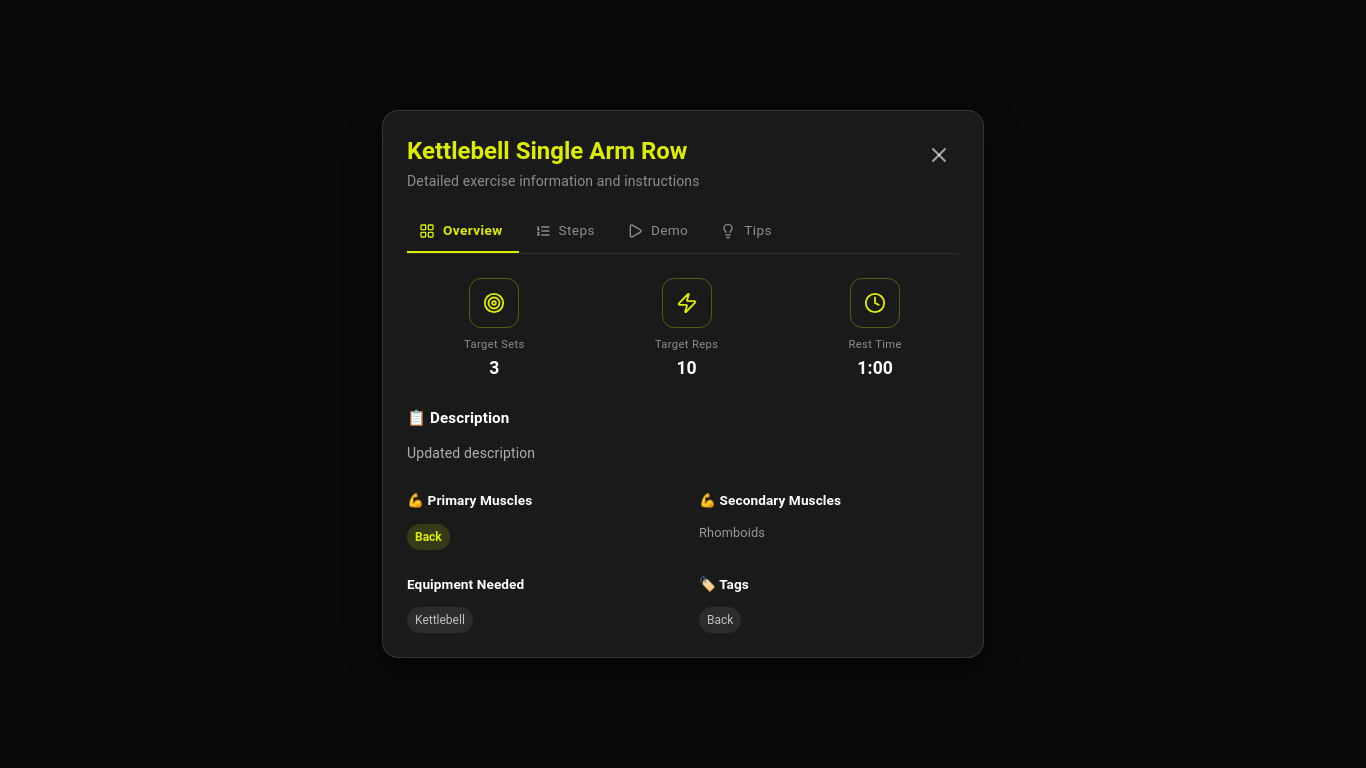
Scenario: ExerciseDetailDialog › renders variations, safety considerations, and tags from normalized exercise records
The image size is (1366, 768).
Expected: the heading "Kettlebell Single Arm Row" is shown, [407,135,700,167]
Expected: the text "Back" below "💪 Primary Muscles" is shown, [415,530,442,544]
// Switch to Tips tab to see variations and safety constraints
Click the button "Tips" at (748, 232), box [708,211,788,253]
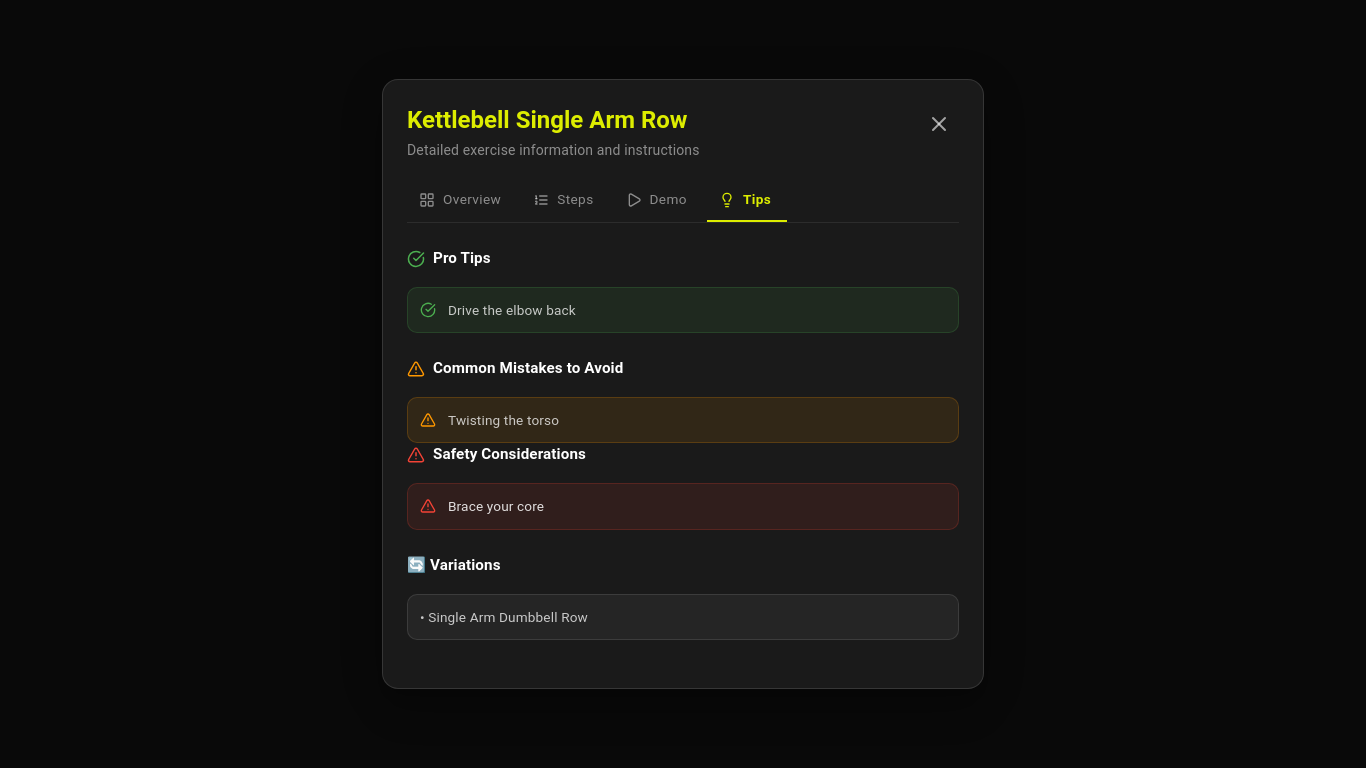
Now the text "• Single Arm Dumbbell Row" is shown, box [420,606,588,627]
Now the text "Brace your core" is shown, box [448,496,544,517]
